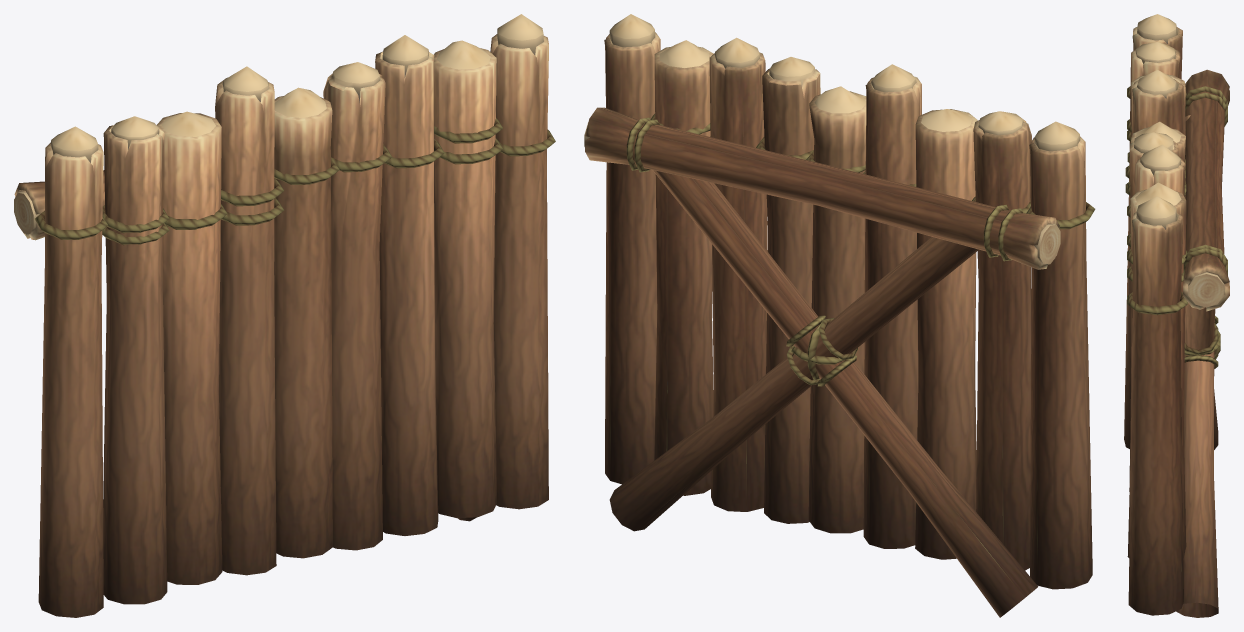
The model's file is Wood_Wall.FBX.
3 views of the same model, side by side, from view 1: azimuth 30°, elevation 25°; view 2: azimuth 150°, elevation 25°; view 3: azimuth 270°, elevation 25° (orthographic). The views are drawn at different scales.
Parts seen in each view (by area): view 1: Wood_Wall; view 2: Wood_Wall; view 3: Wood_Wall.
Part boxes in pixels (box(x1,y1,x2,y2)): Wood_Wall: box(14, 14, 555, 617); Wood_Wall: box(584, 14, 1095, 617); Wood_Wall: box(1124, 14, 1229, 617).
Bounding box in the file's own units: 3.02 × 3 × 0.6389.
